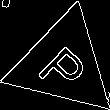P_NE: (32, 33, 94, 95)
